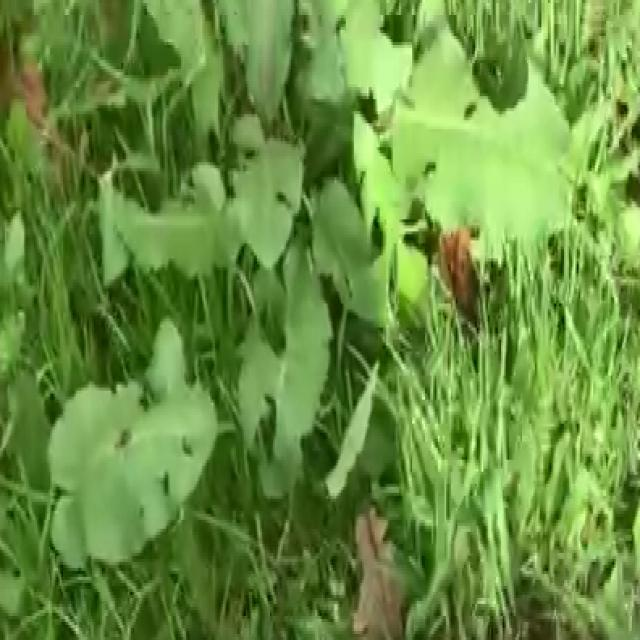organic waste: (81, 0, 606, 508), (34, 375, 292, 550)
